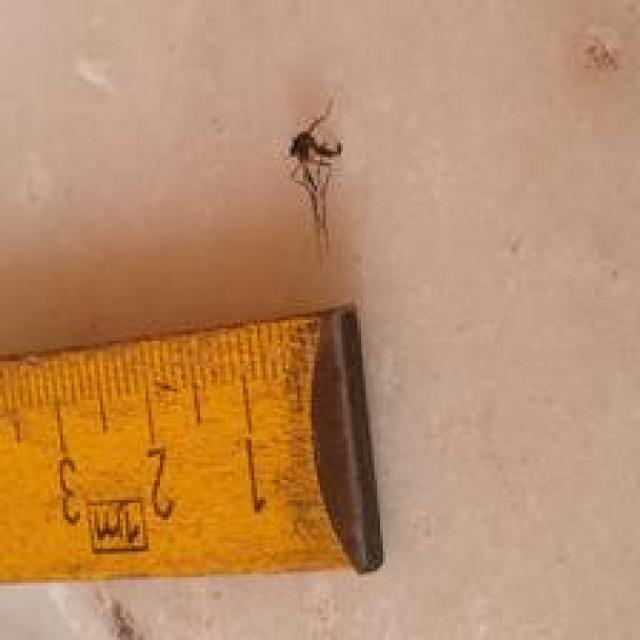Aedes albopictus: (286, 95, 343, 258)
